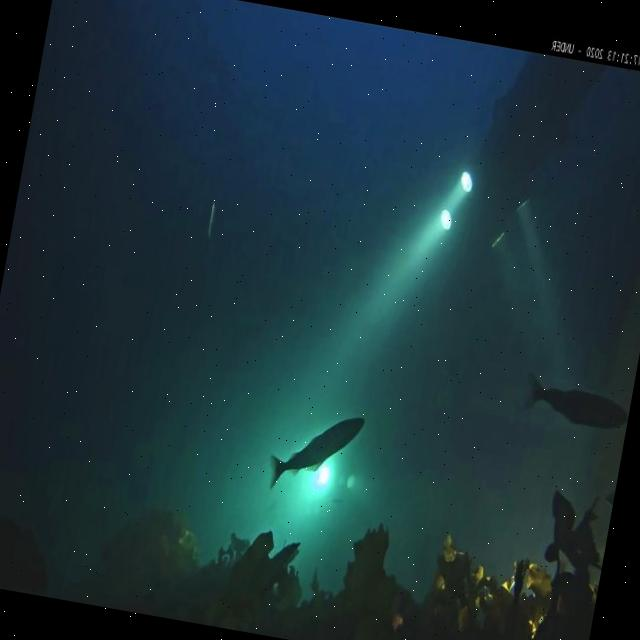fish: (263, 401, 365, 501), (519, 379, 628, 433), (204, 200, 218, 242)
